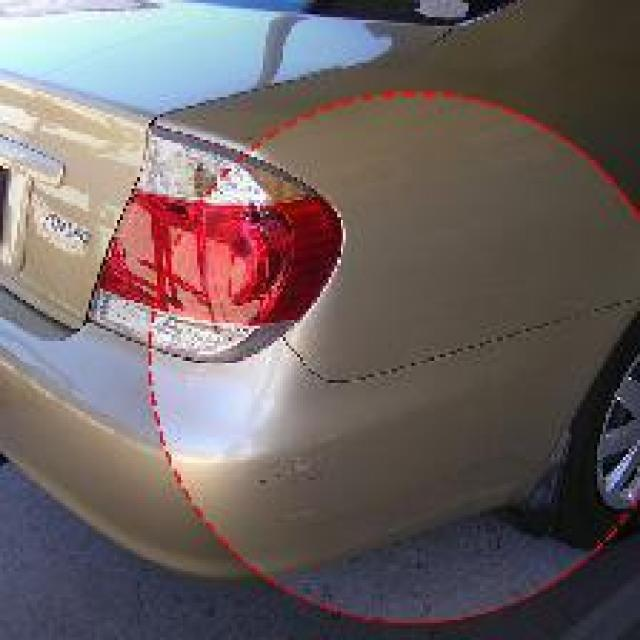damaged: (240, 441, 354, 508)
